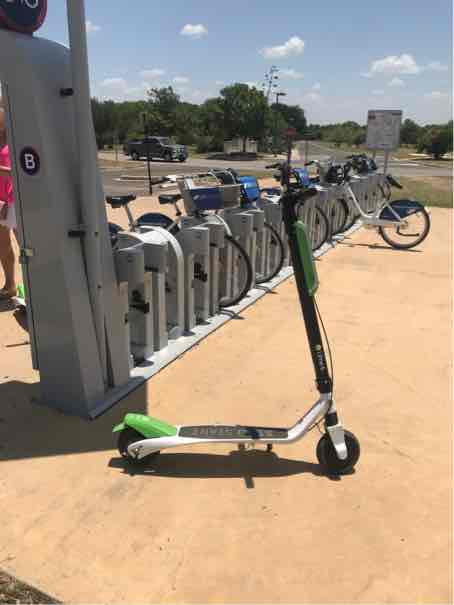scooter: (109, 174, 361, 493)
